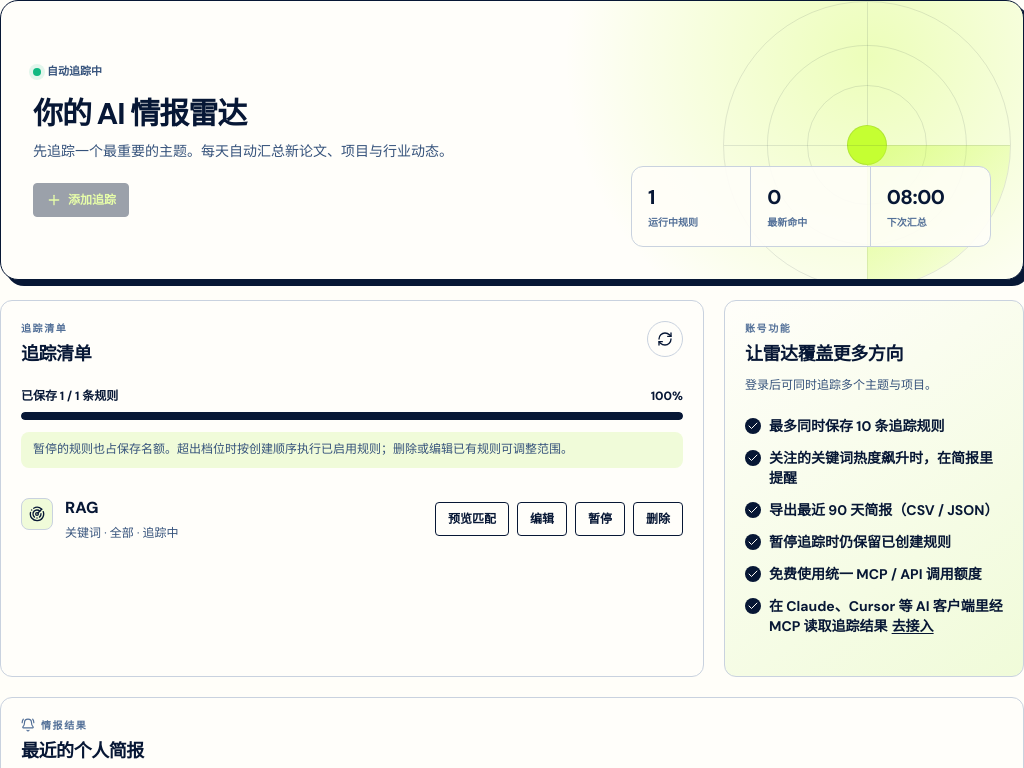
it: personal tracking › keeps a rule until deletion is explicitly confirmed
This screenshot has width=1024, height=768.
Click the button "删除": (658, 519) [633,502,683,536]
(page scrolled)
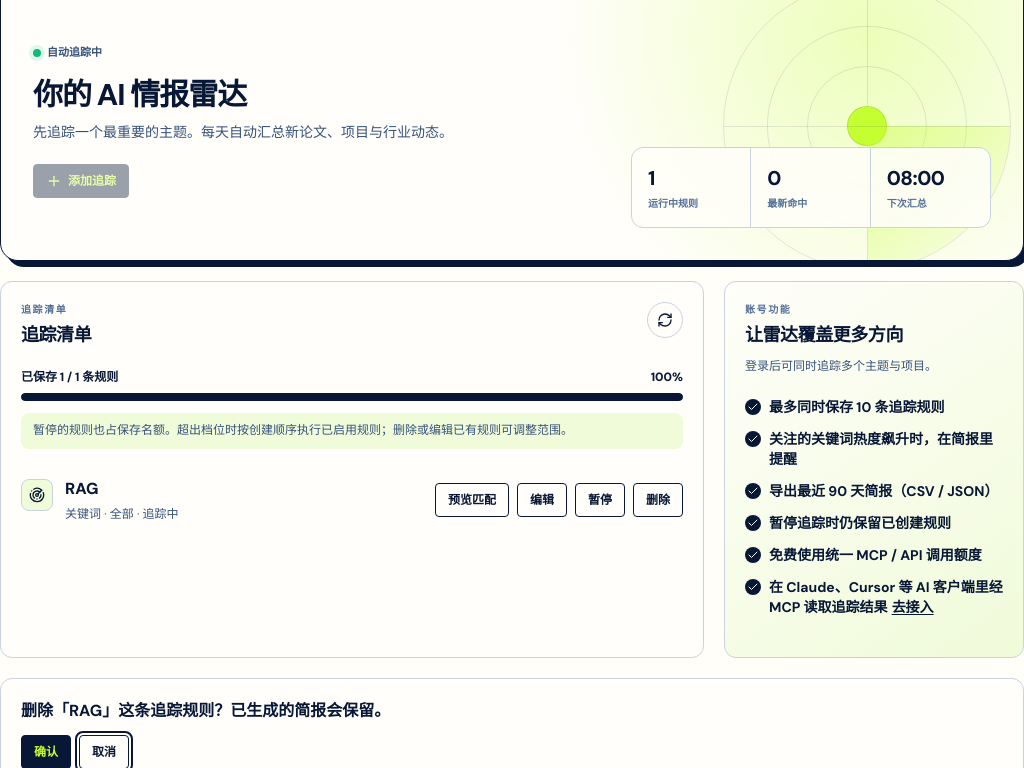
Click the button "取消": (104, 752) [79,734,129,767]
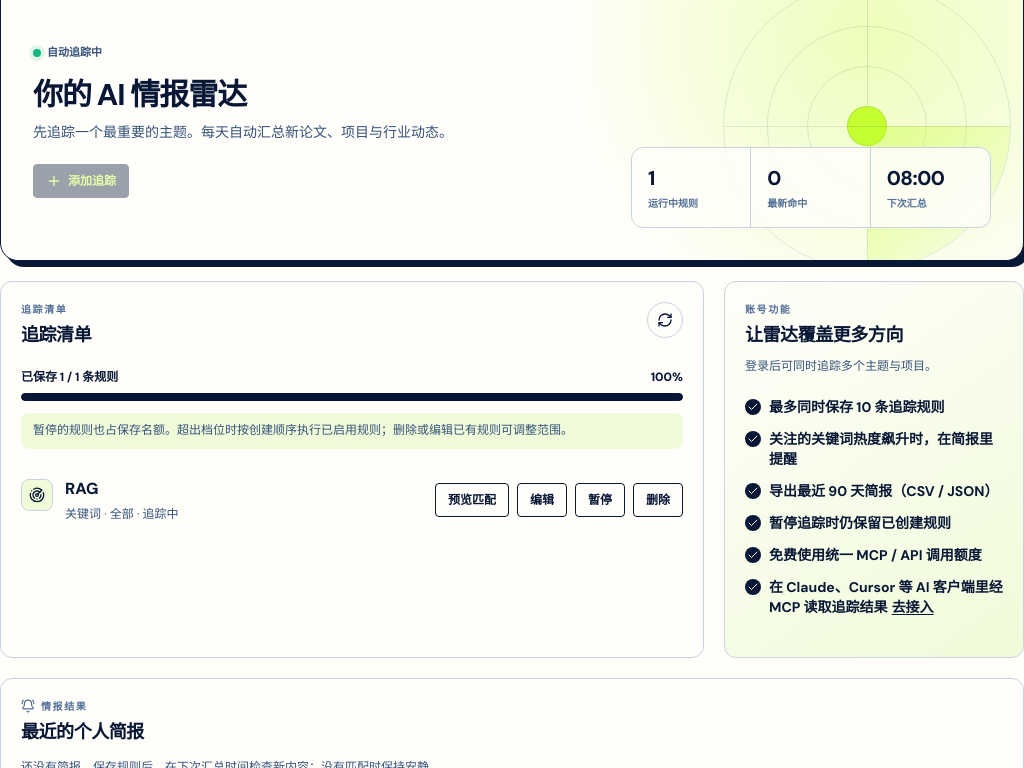
Expected: the text "已保存 1 / 1 条规则" is shown, [21,369,118,385]
Click the button "删除": (658, 500) [633,483,683,517]
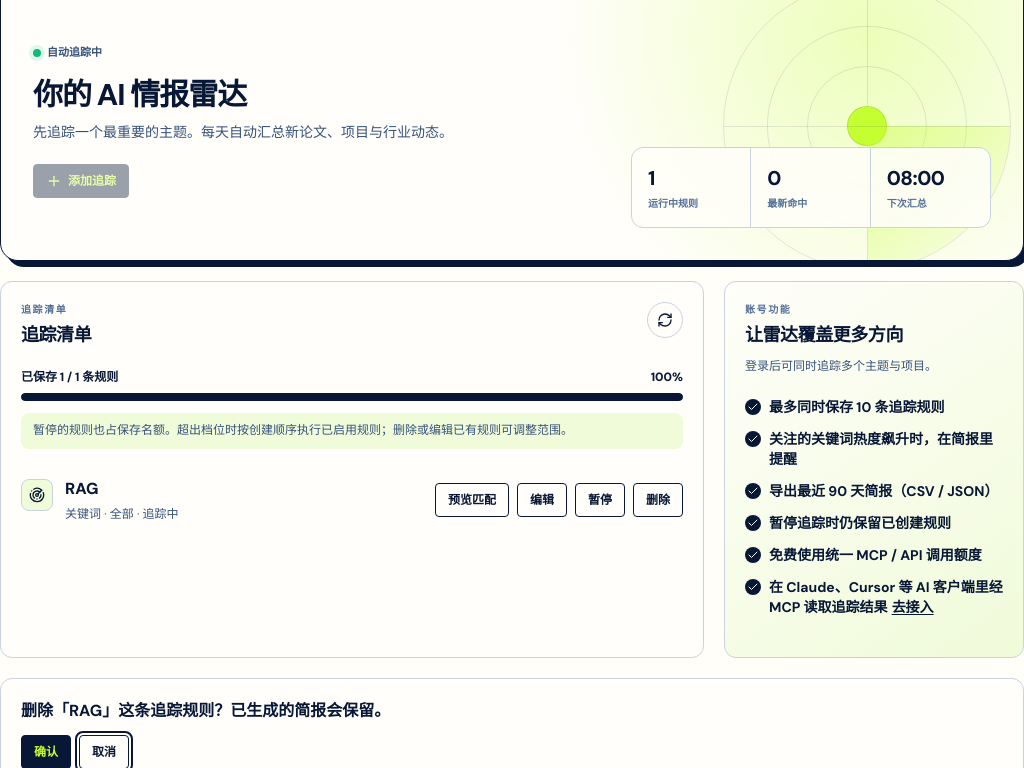
Click the button "确认": (46, 752) [21,734,71,767]
(page scrolled)
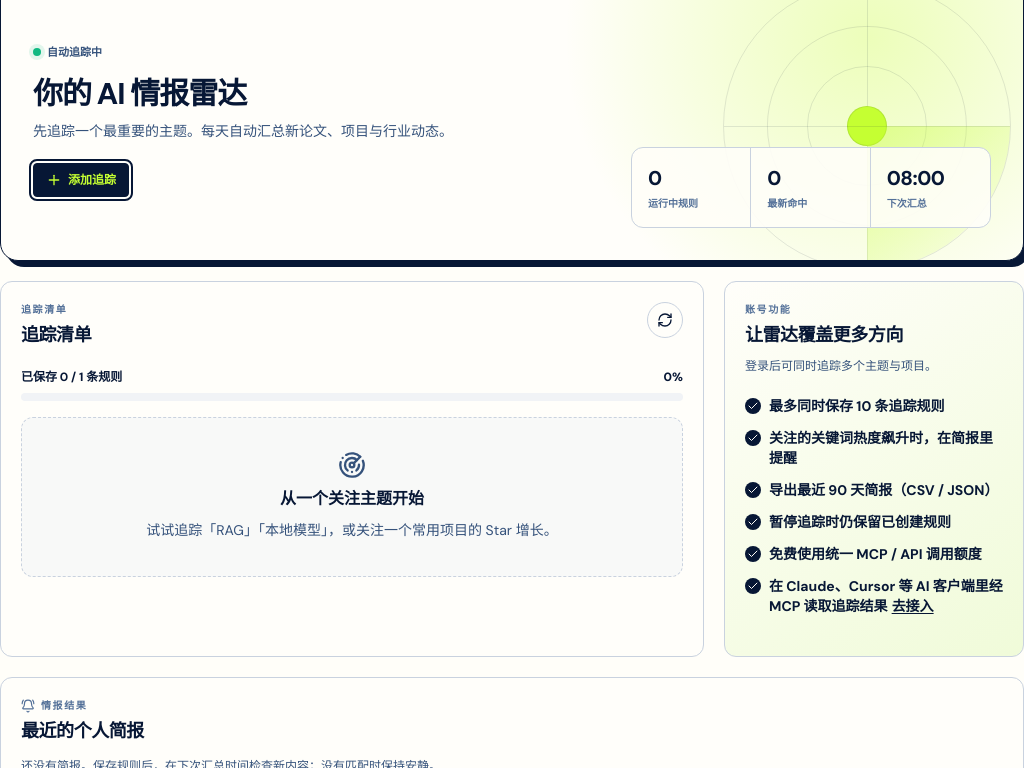
Now the text "已保存 0 / 1 条规则" is shown, box [21,368,122,384]
